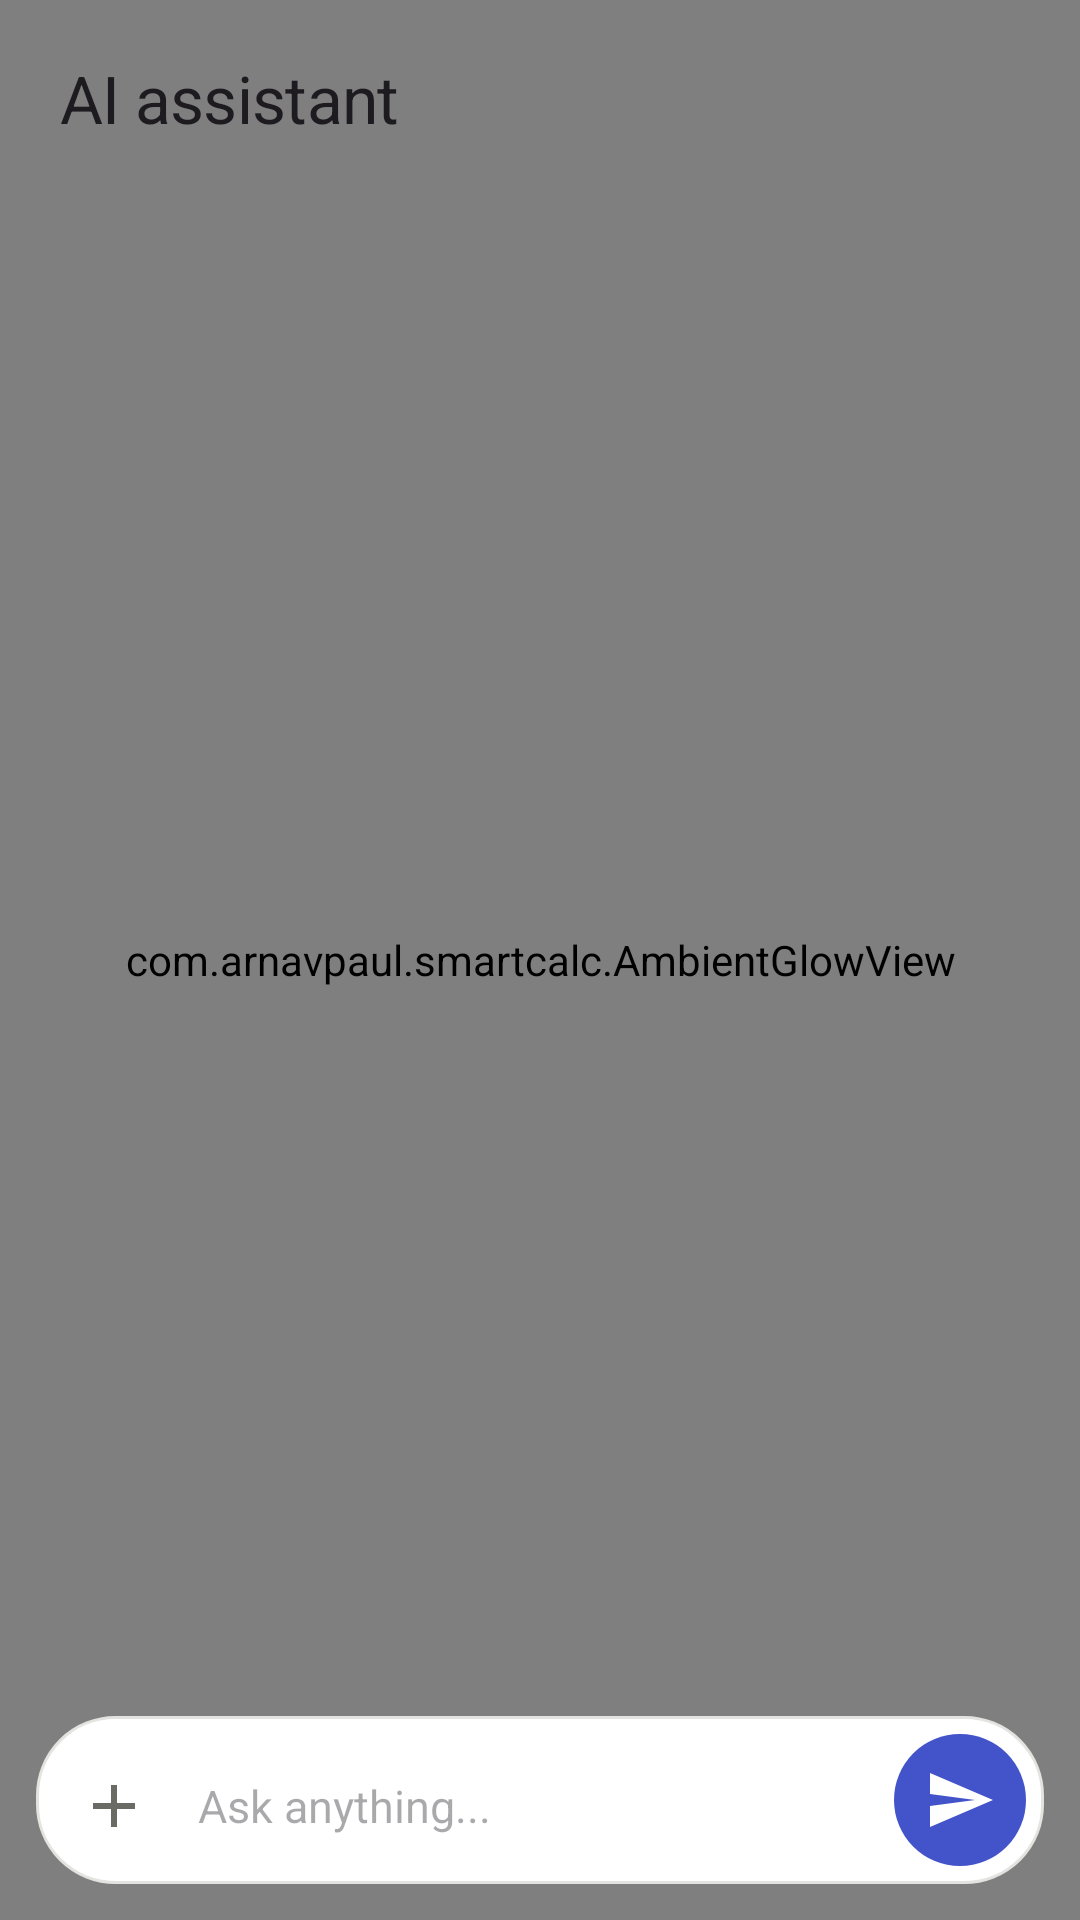

Named icons in this screenshot (1080×1920) and their bounding boxes, Rect(x1, y1, x2, y2):
Attach: Rect(93, 1785, 135, 1827)
Send: Rect(894, 1734, 1026, 1866)
